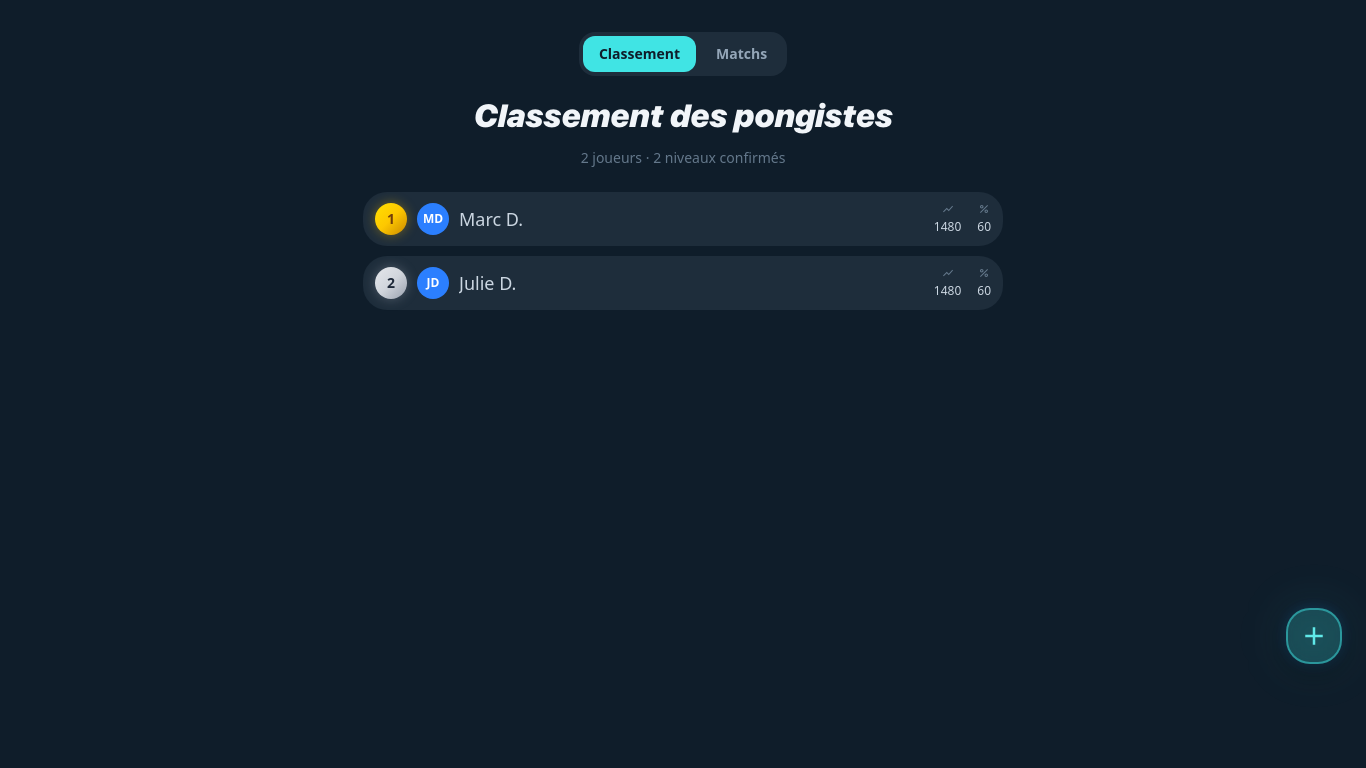
Test: PingpongPage › the detail sheet › opens on the player whose row was tapped
Click the button with test id "pingpong-row": {"x": 391, "y": 283} [363,256,1003,310]
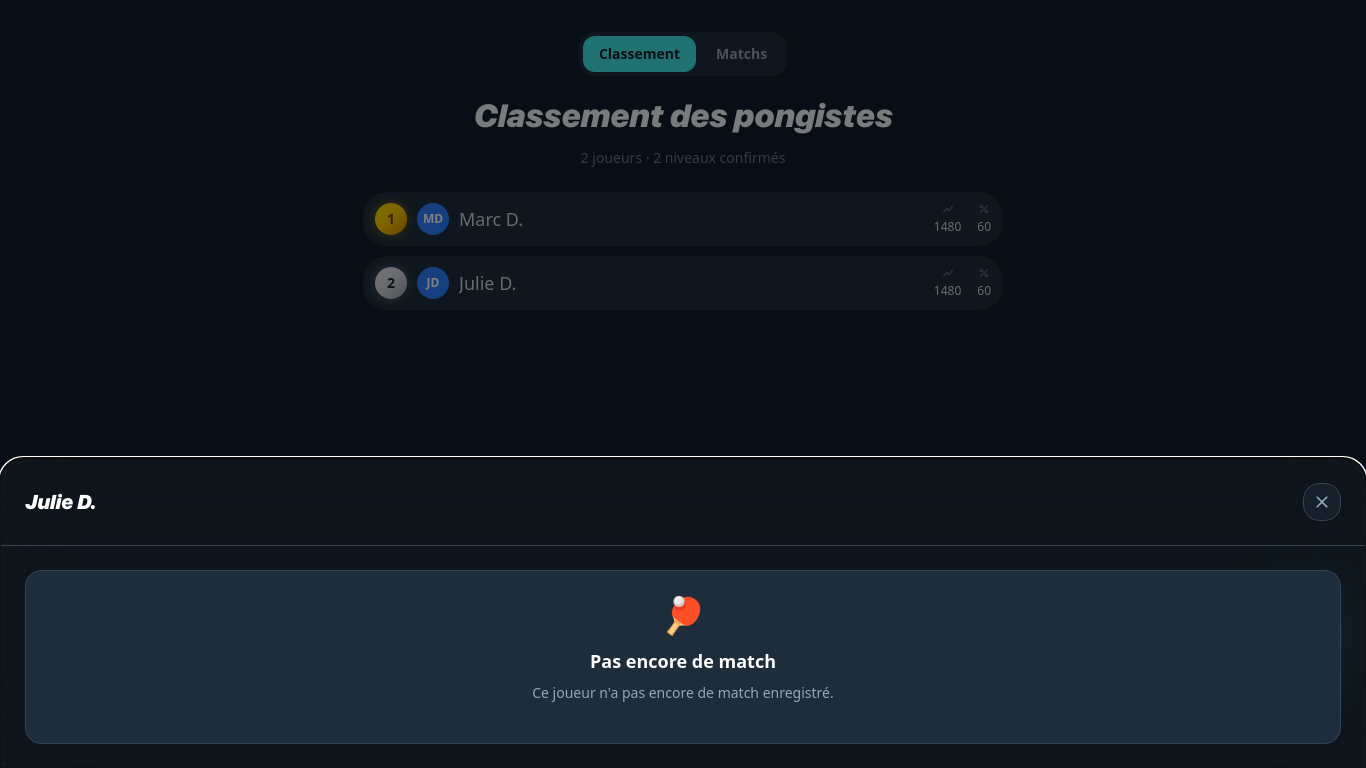
Expected: the dialog does not show "Marc", [0,458,1365,767]
Expected: the dialog shows "Julie", [25,490,96,514]
